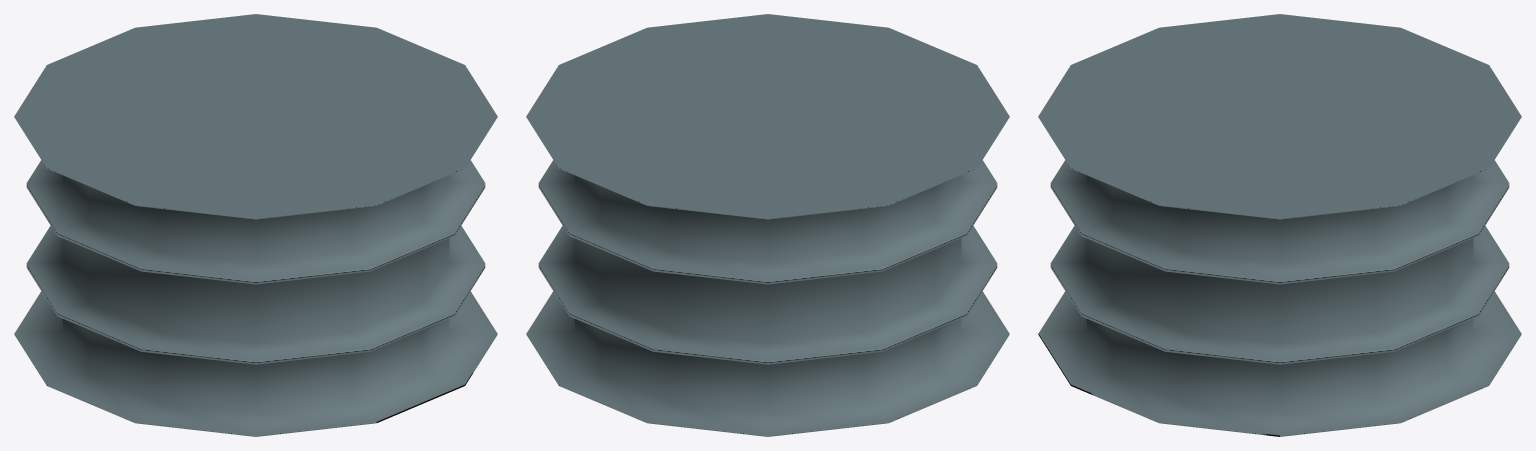
File: spouting-crossbeam-unit-authored-atlas.glb
The picture shows the model from 3 angles, left to right: view 1: azimuth 30°, elevation 25°; view 2: azimuth 150°, elevation 25°; view 3: azimuth 270°, elevation 25°; orthographic projection.
Parts seen in each view (by area): view 1: Authored surface; view 2: Authored surface; view 3: Authored surface.
Part boxes in pixels (<box>): Authored surface: <box>14,14,497,436</box>; Authored surface: <box>526,14,1009,436</box>; Authored surface: <box>1038,14,1521,436</box>.
Bounding box in the file's own units: 2 × 1 × 2.
1 material, 1 textured.
